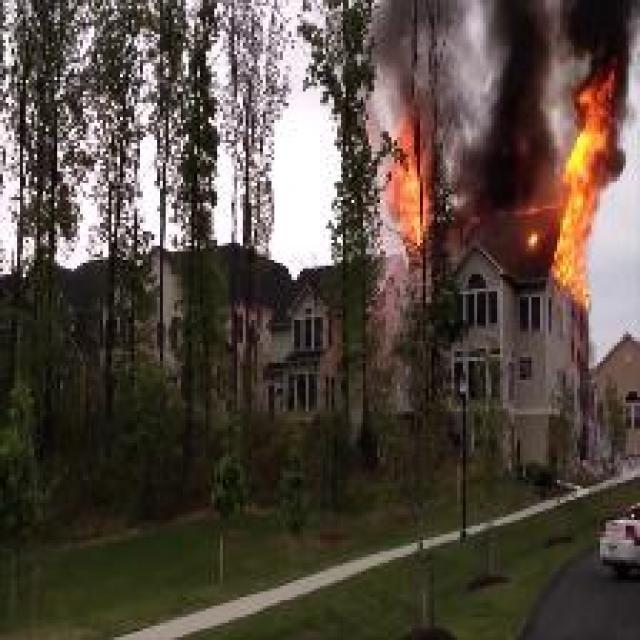Fire: (553, 67, 616, 310), (384, 93, 432, 253)
